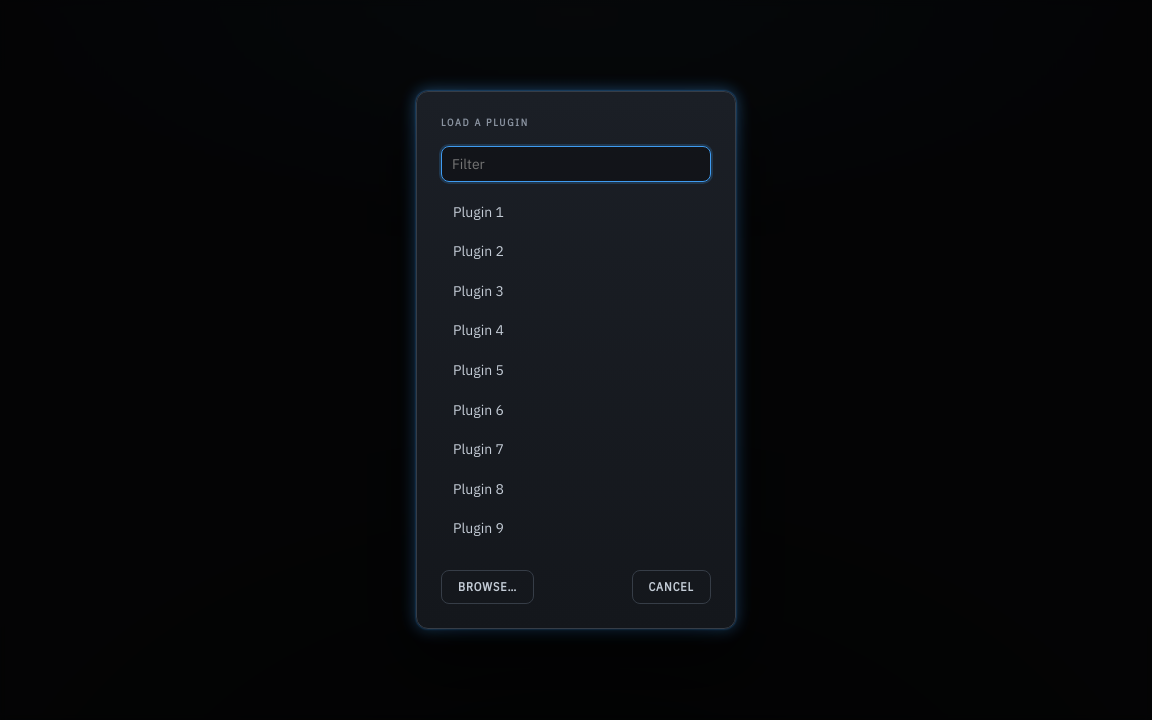
Scenario: PluginPicker › offers a filter once the list is long, and says when nothing matches
Type "plugin 1" into the field named "Filter plugins" at [576, 164], box [441,146,711,182]
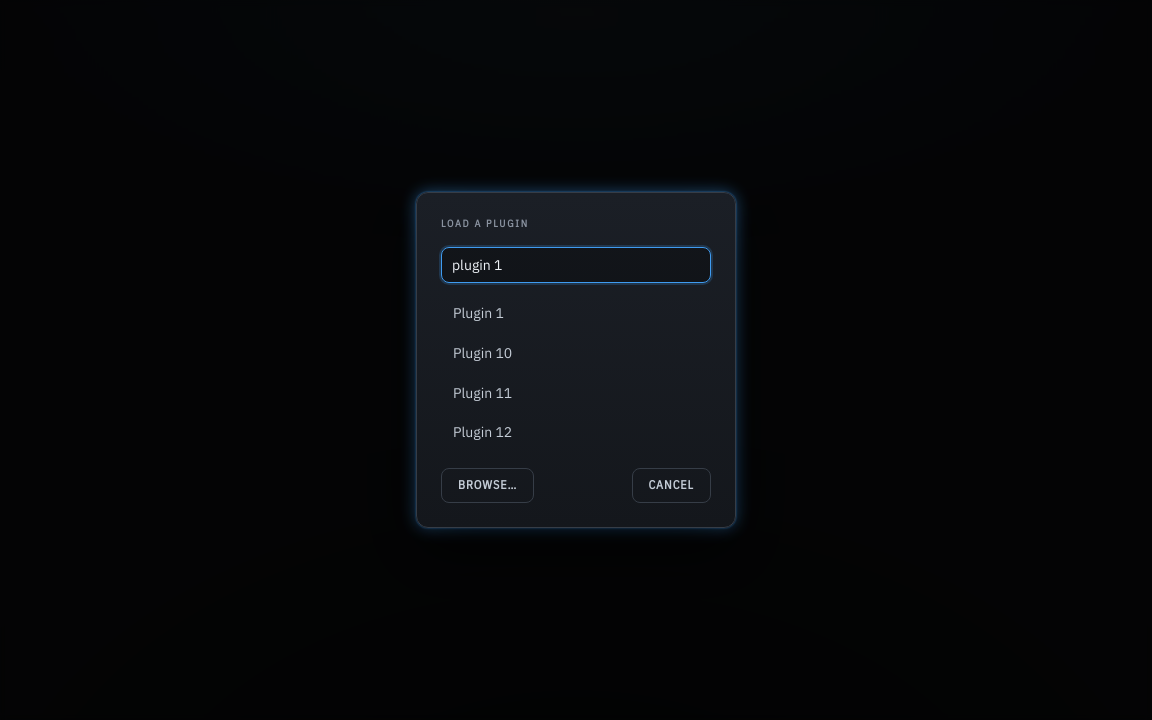
Expected: the buttons read "Plugin 1", "Plugin 10", "Plugin 11", "Plugin 12", in this order, [441,295,711,333]; [441,335,711,373]; [441,375,711,412]; [441,414,711,452]
Clear the field named "Filter plugins" at [576, 265], box [441,247,711,283]
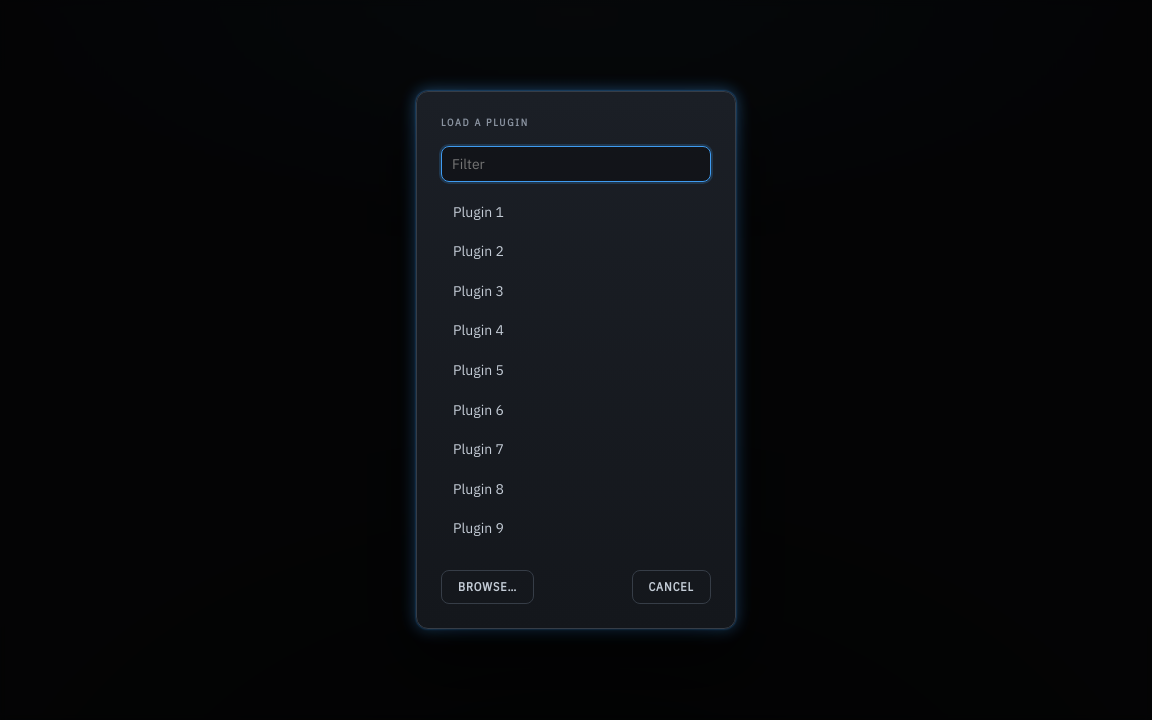
Type "zzz" into the field named "Filter plugins" at [576, 164], box [441,146,711,182]
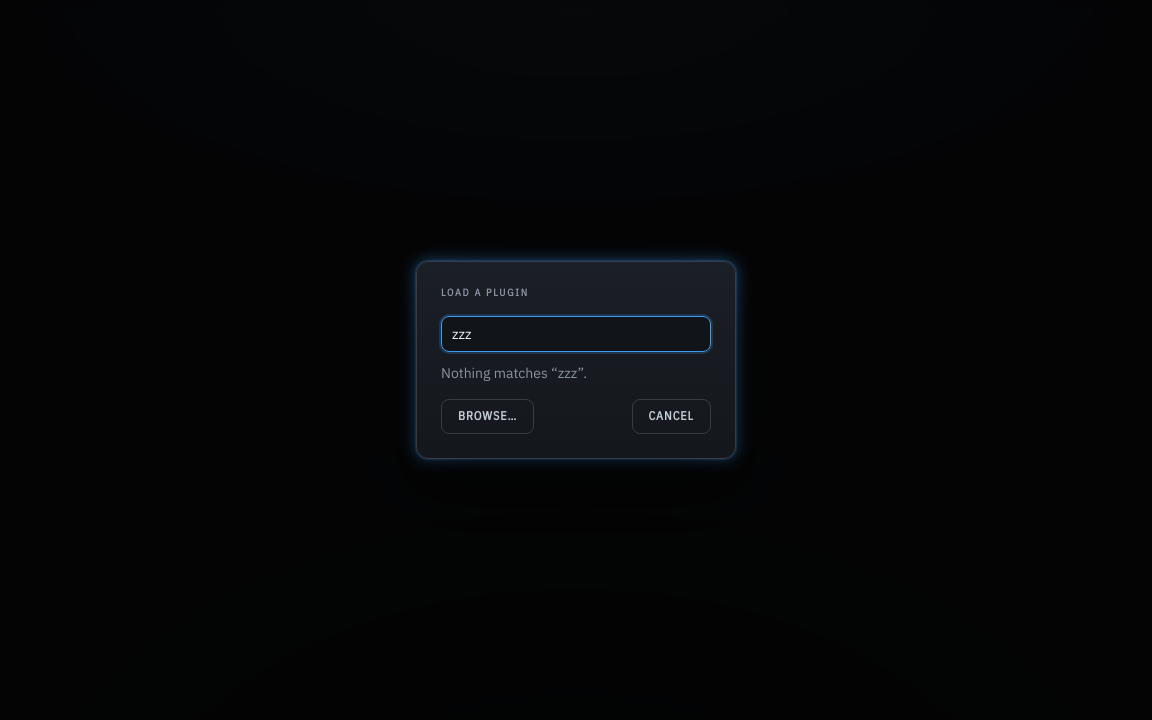
Expected: the text "Nothing matches “zzz”." is shown, [441,364,587,382]
